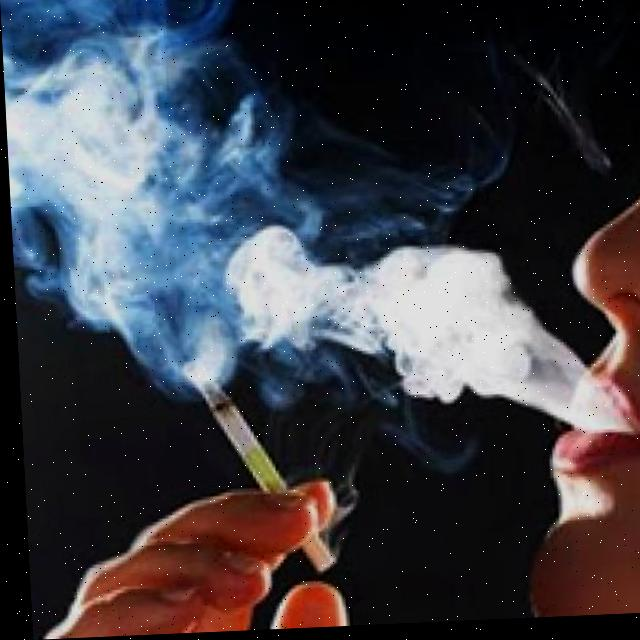cigarette: (191, 383, 327, 580)
